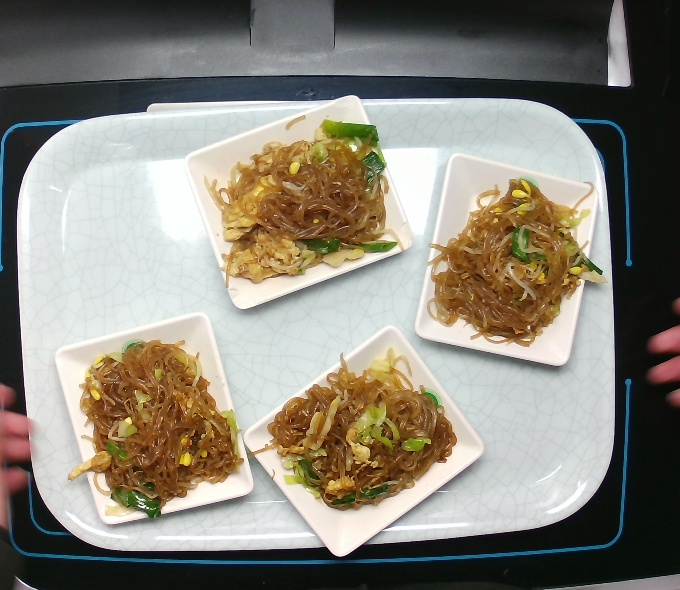wcq-FenSiChaoDan: (204, 117, 406, 291), (428, 159, 592, 356), (77, 334, 238, 526), (264, 359, 457, 509)
